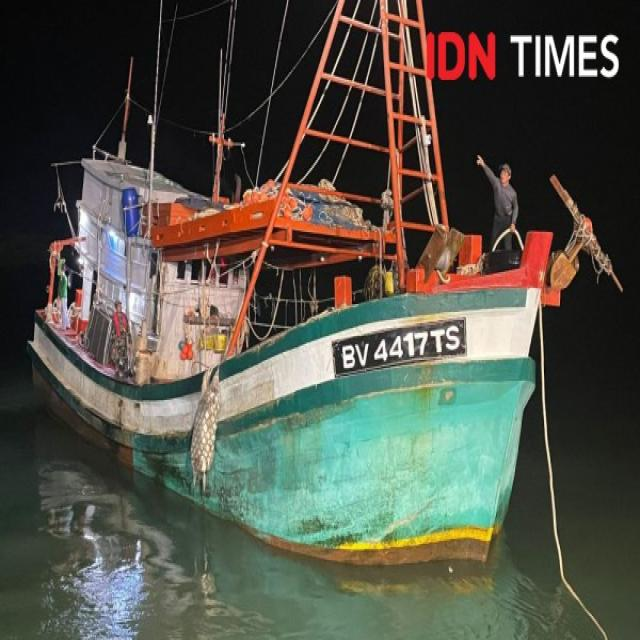Fishing Boat: (7, 64, 638, 586)
